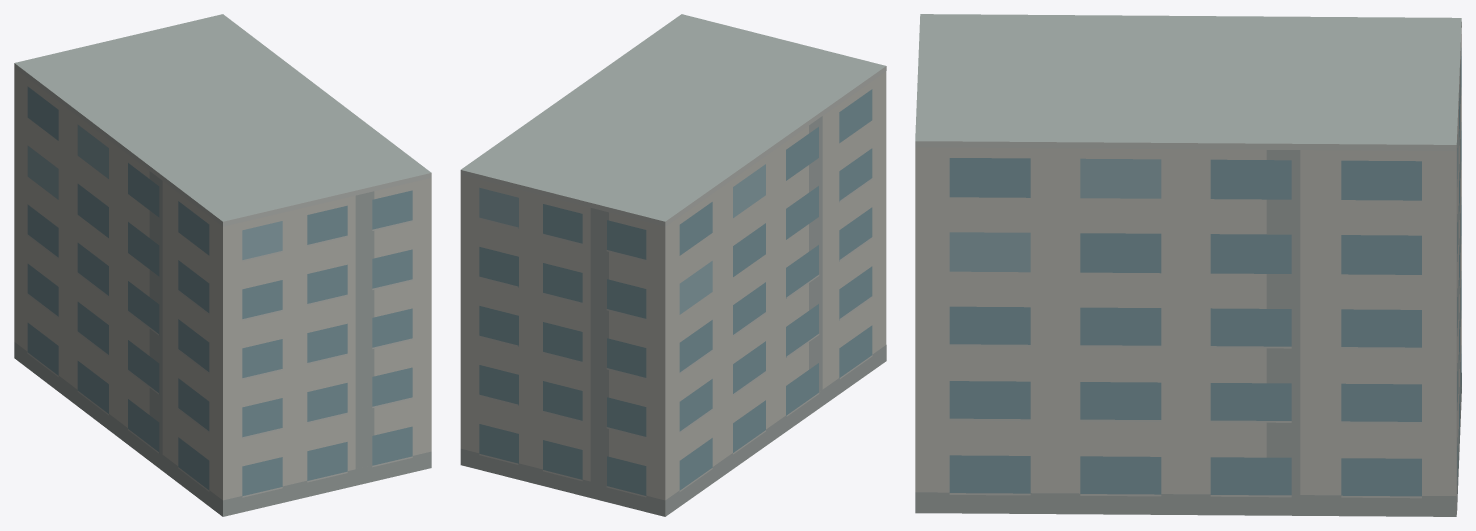
Rendered from survey-upis-32915789.glb.
3 renders of one model, left to right at view 1: azimuth 30°, elevation 25°; view 2: azimuth 150°, elevation 25°; view 3: azimuth 270°, elevation 25°, orthographic. The views are drawn at different scales.
Parts seen in each view (by area): view 1: survey-upis-32915789.tmp; view 2: survey-upis-32915789.tmp; view 3: survey-upis-32915789.tmp.
Boxes of the visible parts, box(x1,y1,x2,y2) form: survey-upis-32915789.tmp: box(14, 14, 431, 516); survey-upis-32915789.tmp: box(460, 14, 886, 516); survey-upis-32915789.tmp: box(915, 14, 1461, 516).
Bounding box in the file's own units: 11.03 × 14.6 × 19.46.
